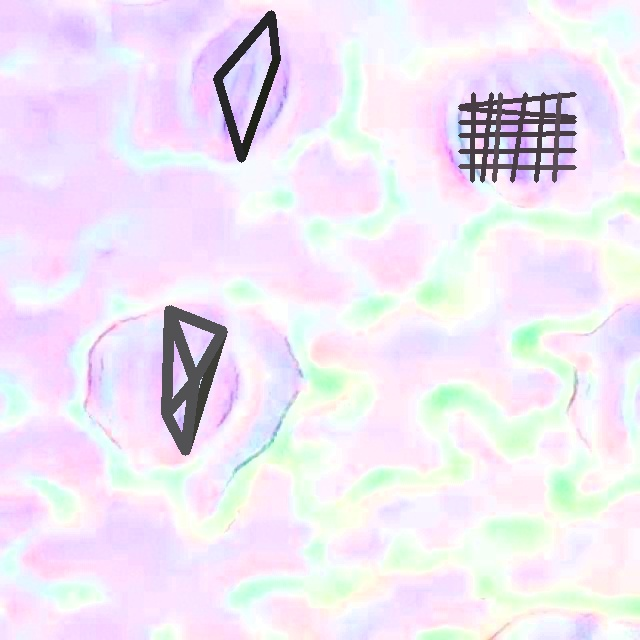open: (459, 92, 575, 182), (213, 10, 280, 162), (162, 305, 226, 455)
